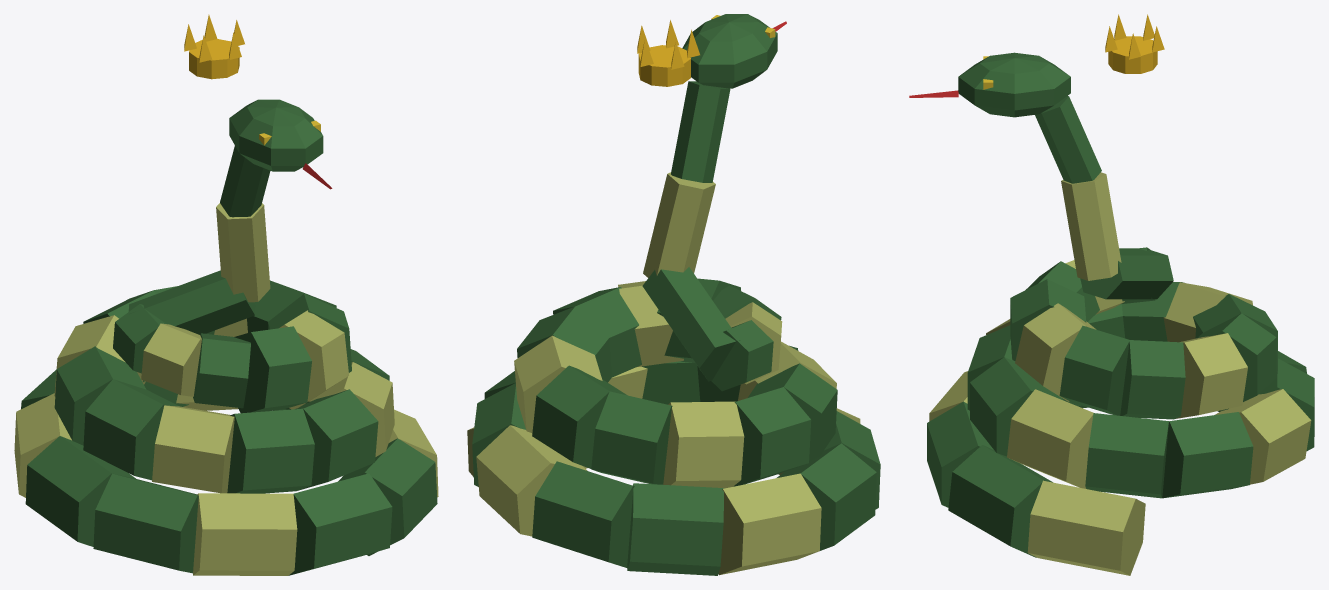
The model's file is schlangenkoenig.glb.
3 views of the same model, side by side, from view 1: azimuth 30°, elevation 25°; view 2: azimuth 150°, elevation 25°; view 3: azimuth 270°, elevation 25° (orthographic). The views are drawn at different scales.
Size of the model in its own units: 1.62 by 2.08 by 1.6.
Materials: 1 (1 with a texture image).
